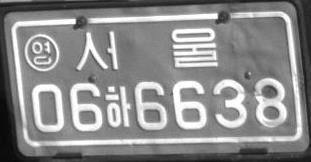0: (30, 82, 65, 134)
3: (212, 77, 248, 129)
6: (172, 79, 208, 130), (134, 80, 168, 131), (69, 81, 102, 132)
8: (253, 76, 288, 129)
서울_D: (75, 26, 218, 71)
영: (24, 33, 59, 72)
하: (105, 85, 130, 127)
